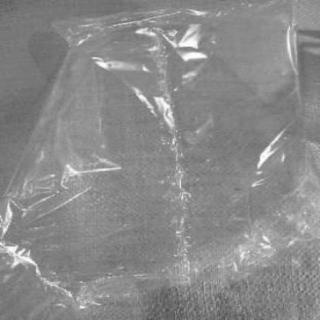objects: (13, 12, 320, 278)
